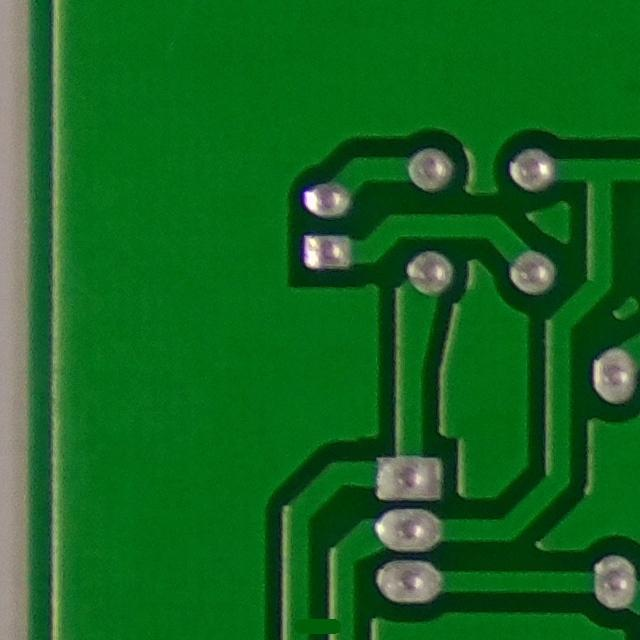short: (266, 594, 366, 640)
